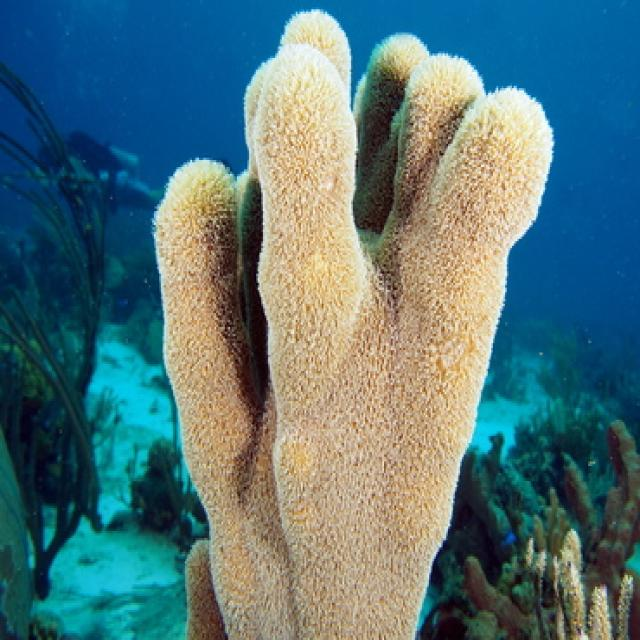Coral: (152, 10, 556, 640)
